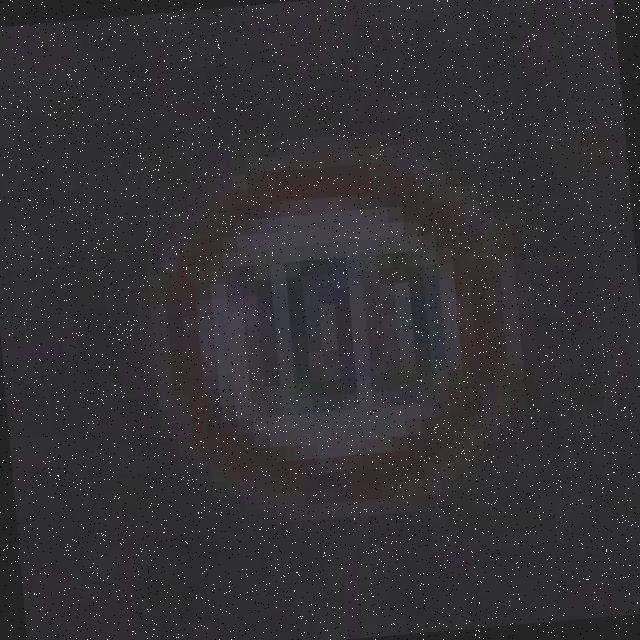Ograniczenie predkosci do 100: (139, 138, 530, 530)
